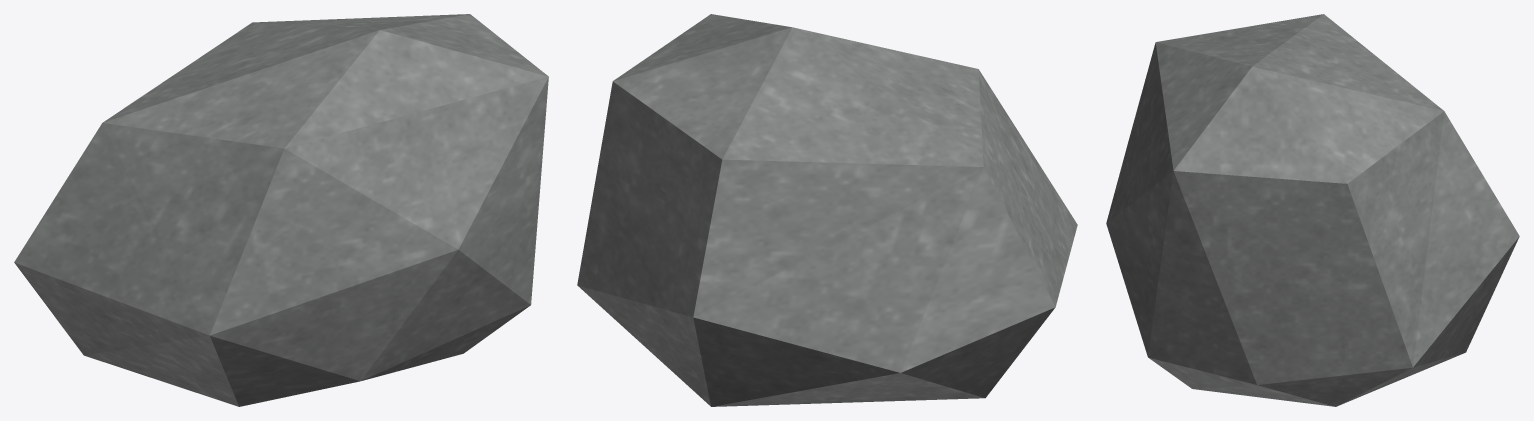
Rendered from boulder_glacial_erratic_LOD1.glb.
3 renders of one model, left to right at view 1: azimuth 30°, elevation 25°; view 2: azimuth 150°, elevation 25°; view 3: azimuth 270°, elevation 25°, orthographic. The views are drawn at different scales.
Parts seen in each view (by area): view 1: boulder_glacial_erratic_LOD1; view 2: boulder_glacial_erratic_LOD1; view 3: boulder_glacial_erratic_LOD1.
Part boxes in pixels (bbox=[...]): boulder_glacial_erratic_LOD1: bbox=[14, 14, 548, 406]; boulder_glacial_erratic_LOD1: bbox=[577, 14, 1077, 406]; boulder_glacial_erratic_LOD1: bbox=[1106, 14, 1519, 406].
Size of the model in its own units: 2.24 by 1.44 by 1.81.
1 material, 1 textured.
